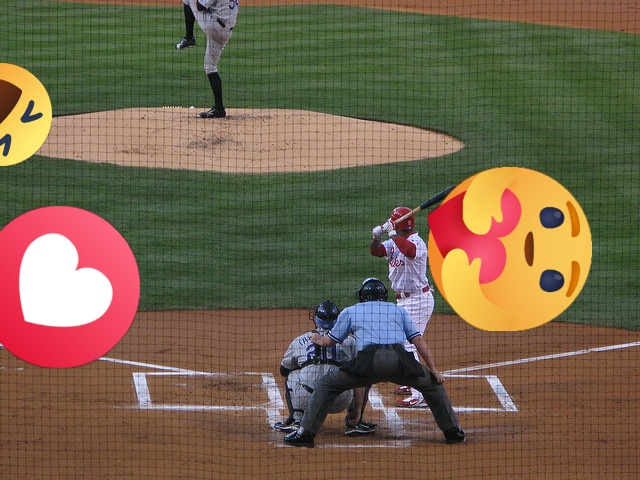care: (428, 167, 592, 331)
haha: (0, 63, 52, 166)
love: (0, 206, 140, 368)
